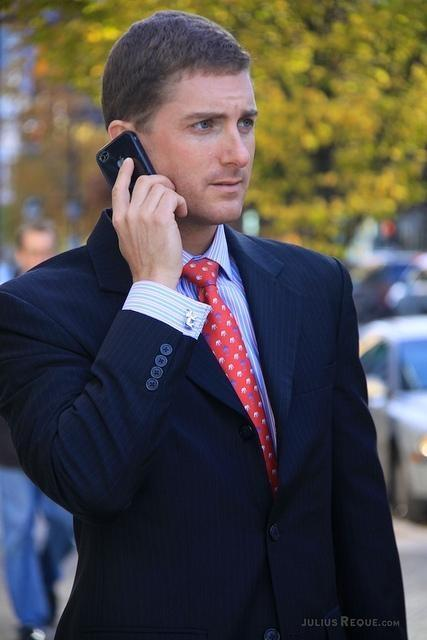car: (357, 314, 427, 524), (356, 264, 426, 321)
